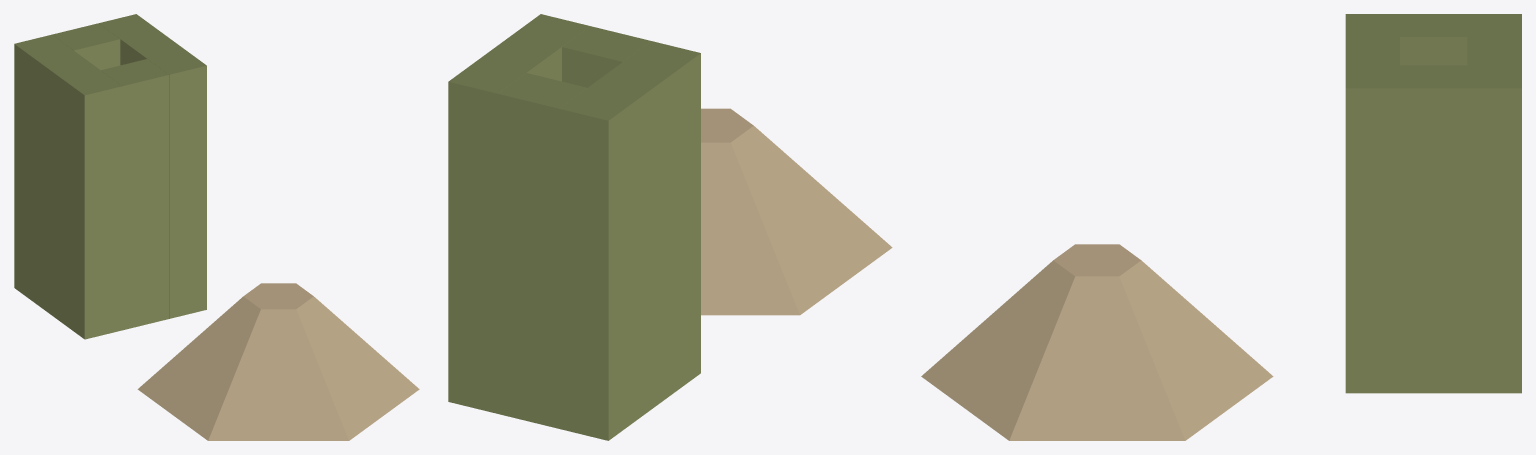
Rendered from SM_ObraHescoAbierto_v2_10m_LOD1.fbx.
The picture shows the model from 3 angles, left to right: view 1: azimuth 30°, elevation 25°; view 2: azimuth 150°, elevation 25°; view 3: azimuth 270°, elevation 25°; orthographic projection. The views are drawn at different scales.
Parts seen in each view (by area): view 1: SM_obra_curso_v25_LOD1; view 2: SM_obra_curso_v25_LOD1; view 3: SM_obra_curso_v25_LOD1.
Part boxes in pixels (bbox=[...]): SM_obra_curso_v25_LOD1: bbox=[14, 14, 419, 440]; SM_obra_curso_v25_LOD1: bbox=[448, 14, 892, 440]; SM_obra_curso_v25_LOD1: bbox=[921, 14, 1521, 440].
Size of the model in its own units: 1.91 by 2.1 by 3.75.
